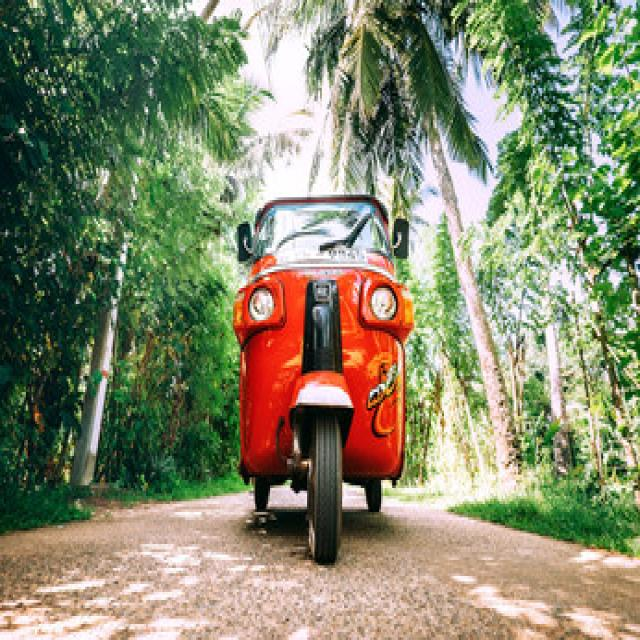three wheeler: (233, 195, 412, 563)
